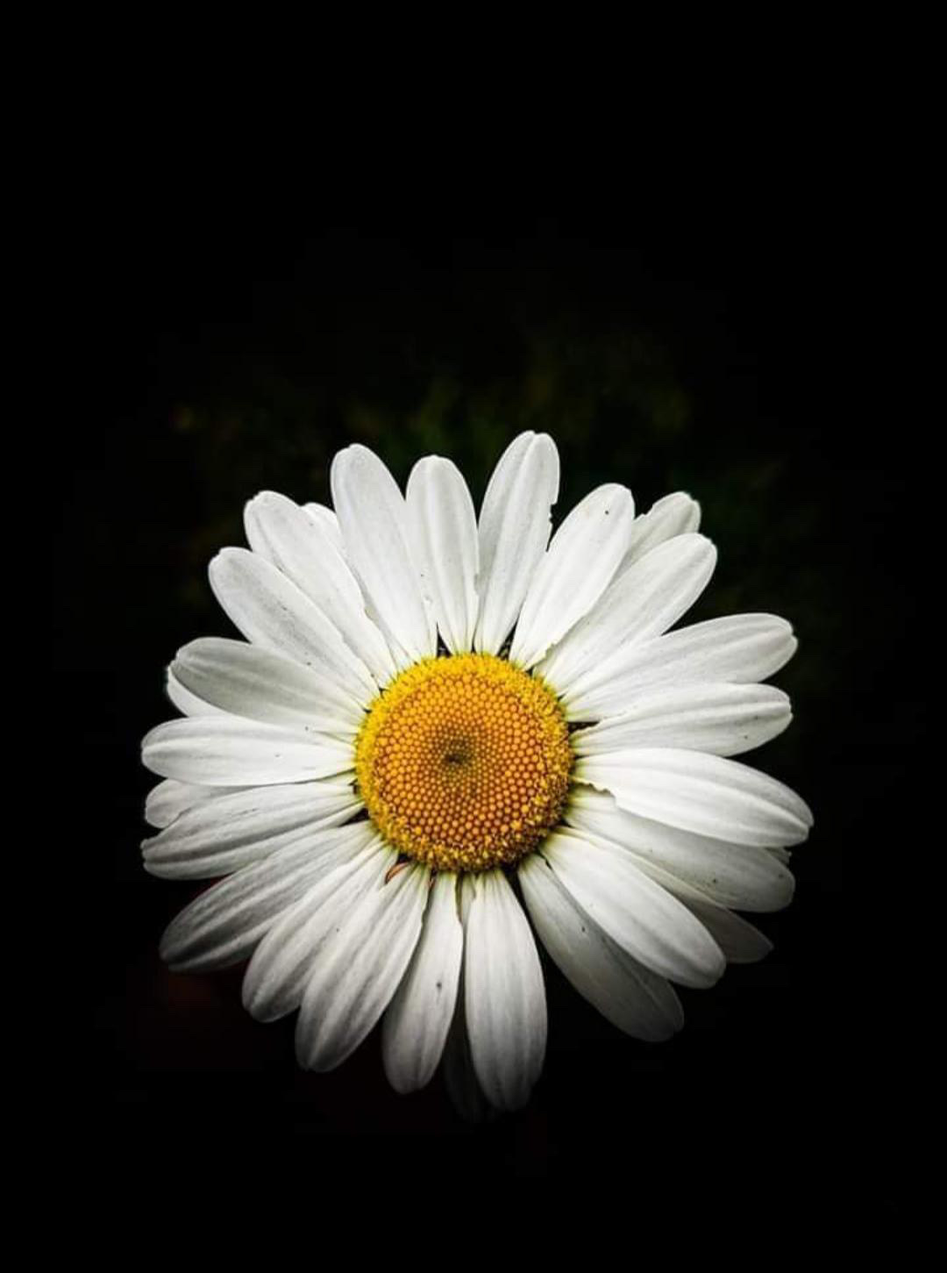daisy: (117, 420, 798, 1098)
